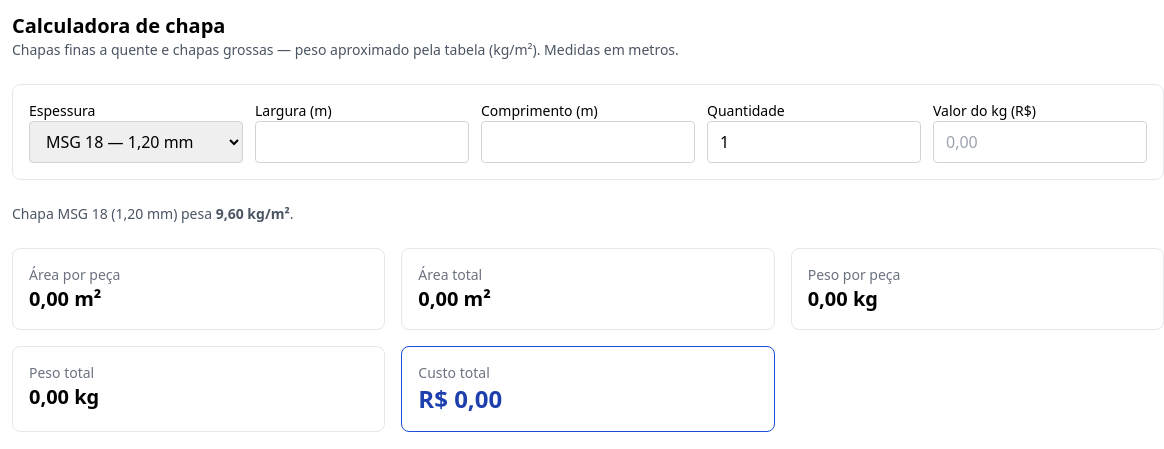
Test: CalculadoraPage › calcula área, peso e custo pela espessura da tabela
Select "1/2\" — 12,50 mm" in the dropdown labelled "Espessura": (136, 142) [29,121,243,163]
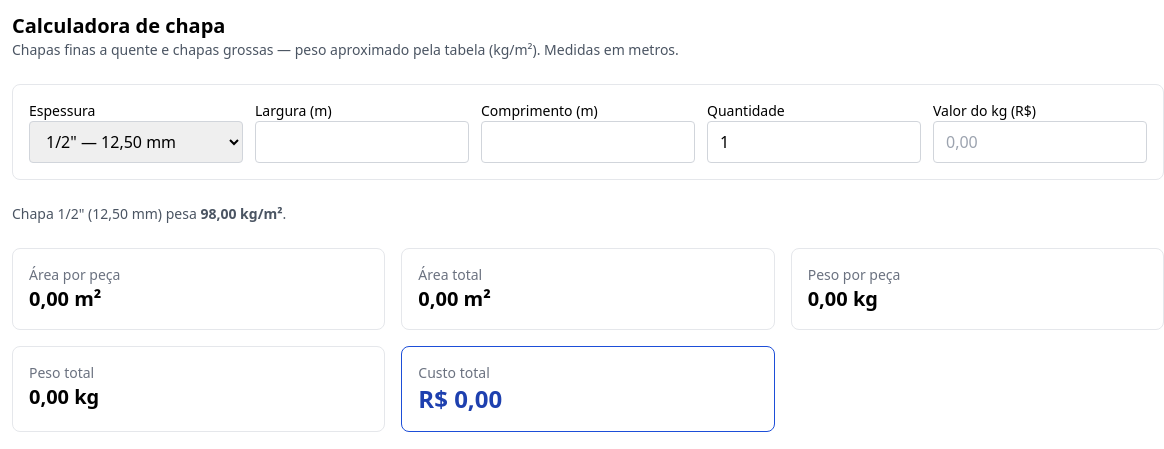
In the field labelled "Largura (m)": (362, 142) [255,121,469,163], type "1"
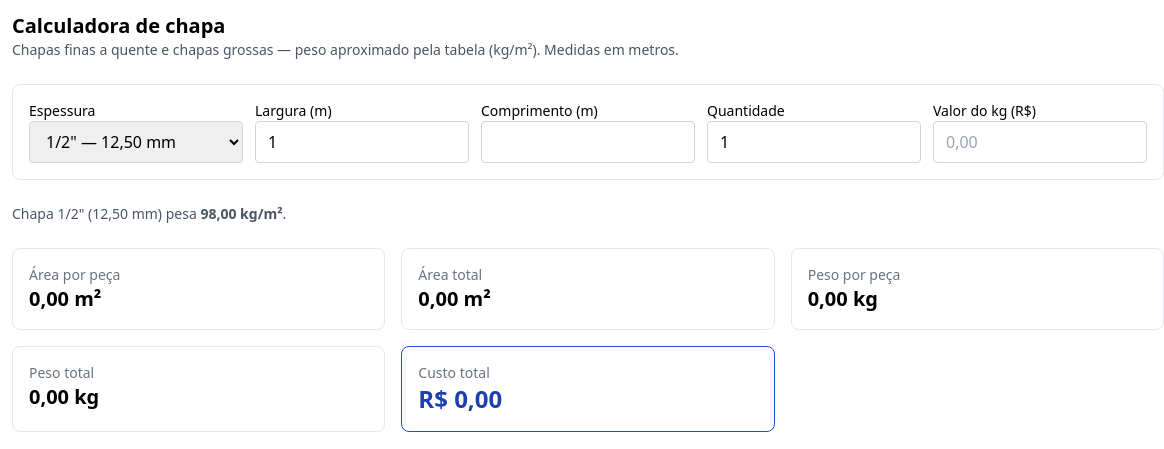
In the field labelled "Comprimento (m)": (588, 142) [481,121,695,163], type "2"
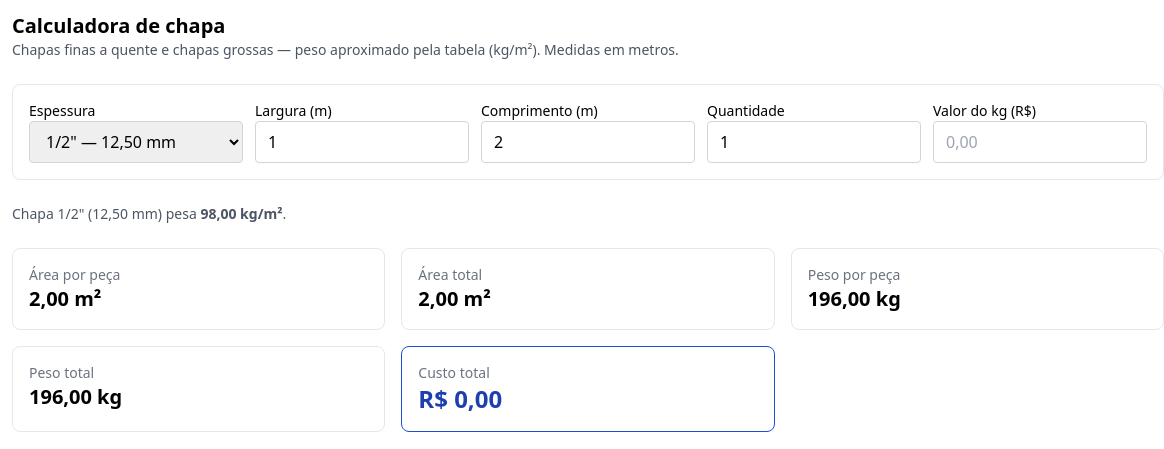
Replace the text in the field labelled "Quantidade" with "2": (814, 142) [707,121,921,163]
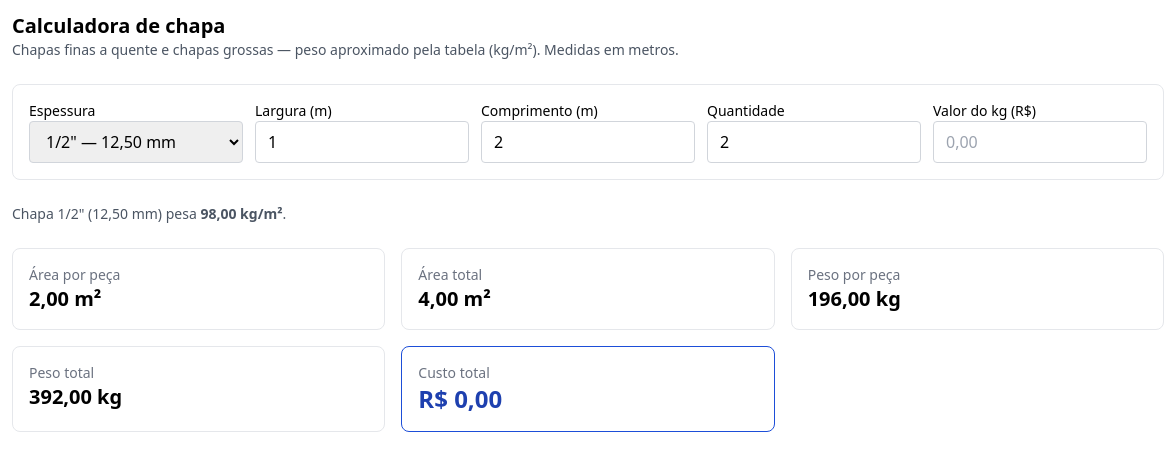
In the field labelled "Valor do kg (R$)": (1040, 142) [933,121,1147,163], type "8,50"
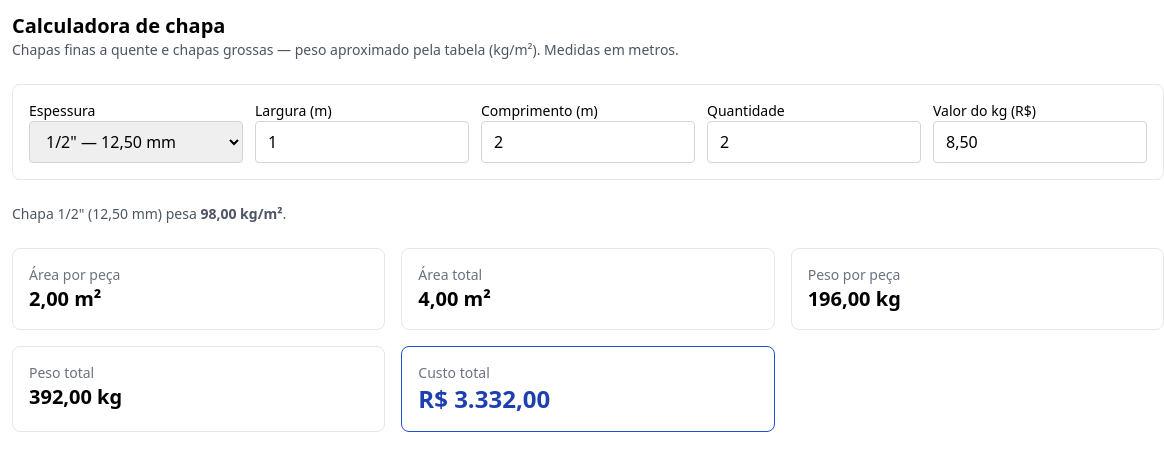
Check: the text with test id "area-total" reads "4,00 m²", box [418,285,491,312]
Check: the text with test id "peso-total" reads "392,00 kg", box [29,383,122,410]
Check: the text "R$ 3.332,00" is shown, box [418,382,550,415]
